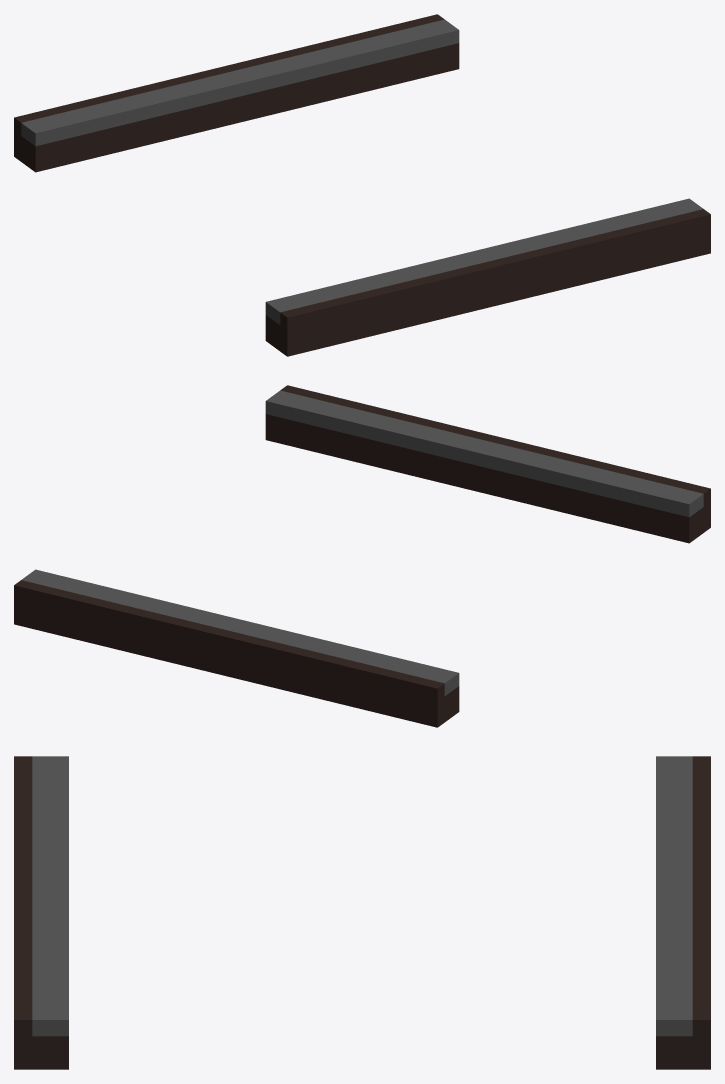
File: narrow-low-profile.obj
3 renders of one model, top to bottom at view 1: azimuth 30°, elevation 25°; view 2: azimuth 150°, elevation 25°; view 3: azimuth 270°, elevation 25°, orthographic. The views are drawn at different scales.
Visible parts, largest first — view 1: RAIL_LEFT, RAIL_RIGHT; view 2: RAIL_LEFT, RAIL_RIGHT; view 3: RAIL_LEFT, RAIL_RIGHT.
Boxes of the visible parts, <box> form: RAIL_LEFT: <box>265,198,710,356</box>; RAIL_RIGHT: <box>14,14,459,172</box>; RAIL_LEFT: <box>265,385,710,543</box>; RAIL_RIGHT: <box>14,569,459,727</box>; RAIL_LEFT: <box>14,756,68,1069</box>; RAIL_RIGHT: <box>656,756,710,1069</box>.
Size of what is drawn, in the model's own units: 1.06 by 0.0938 by 1.19.
1 material, 1 textured.
